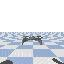drone: (22, 36, 43, 45)
